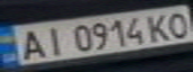0: (66, 21, 93, 53)
1: (109, 16, 130, 47)
4: (124, 14, 151, 45)
9: (90, 19, 112, 51)
A: (12, 27, 48, 61)
I: (36, 25, 69, 56)
K: (142, 10, 175, 43)
O: (160, 8, 193, 39)
